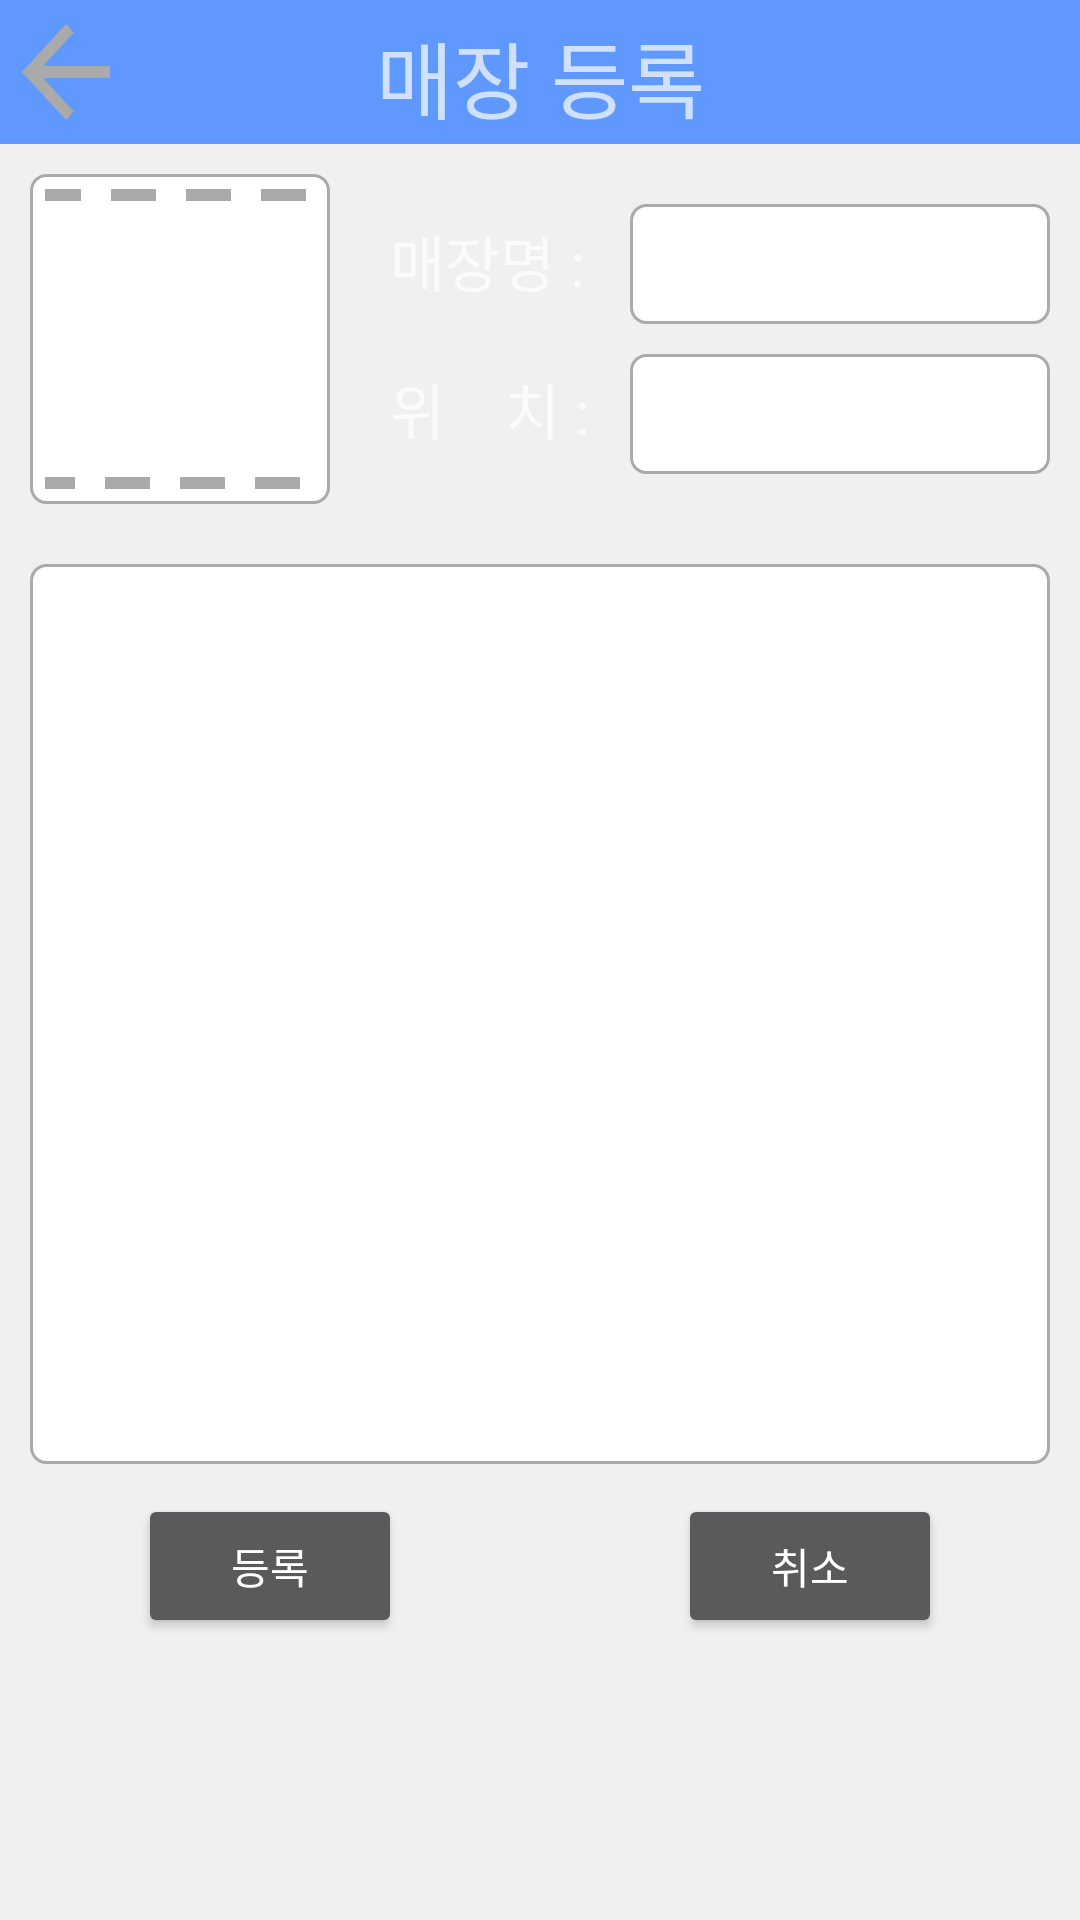

Where to tap for icons on this 1080×1920 app screen, as point (x, y):
arrow back: point (66, 72)
